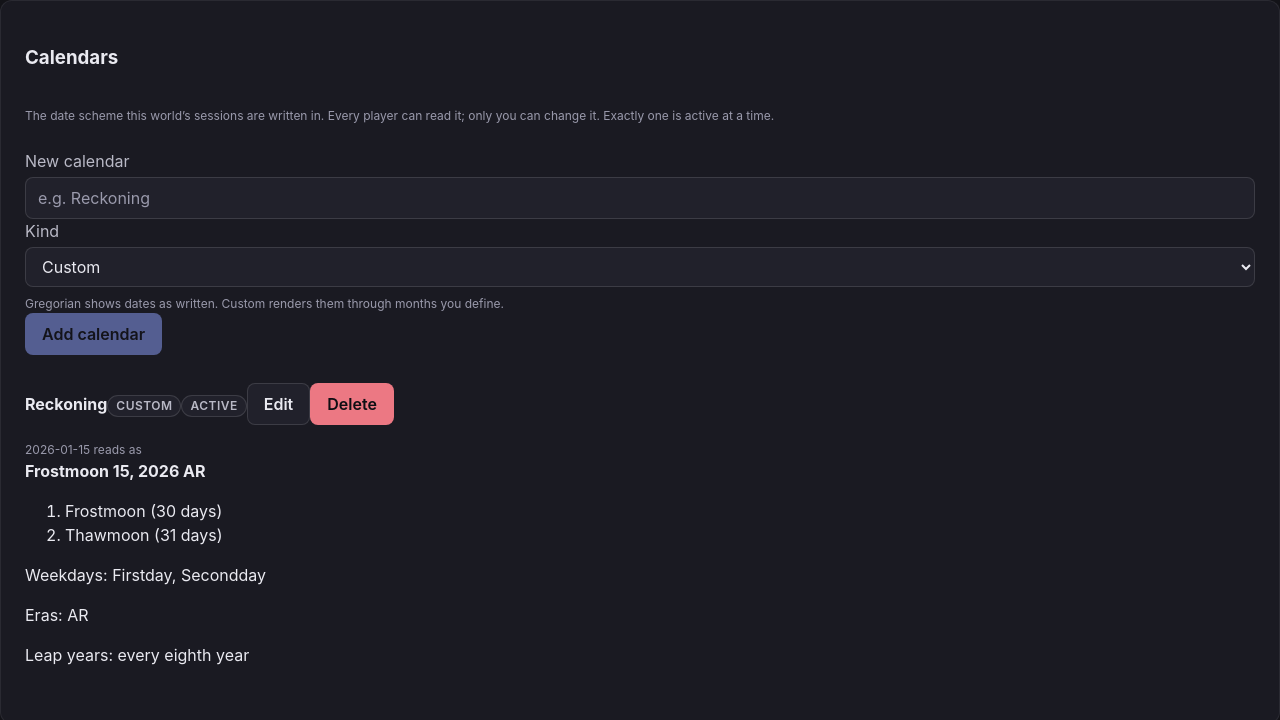
Scenario: CalendarsPanel › surfaces a refusal instead of failing silently
Click the button with aria-label "Delete Reckoning".
click(352, 404)  # box [310, 382, 394, 424]
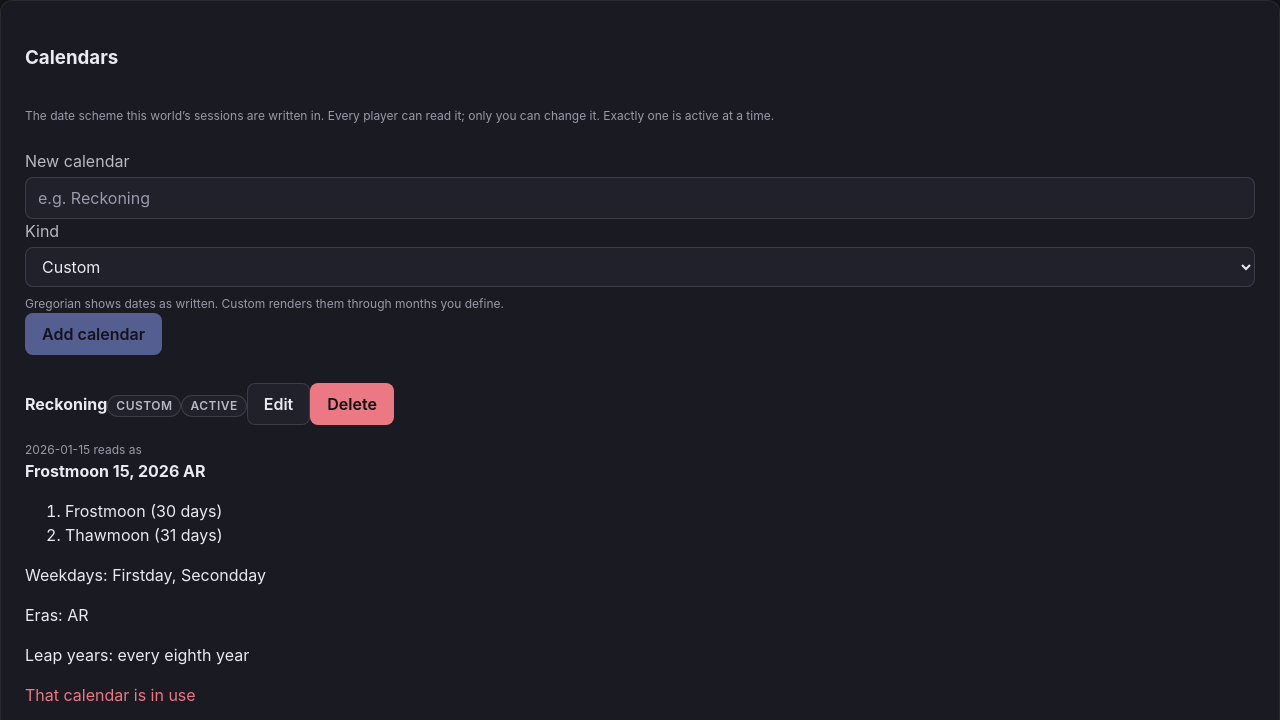
Expected: the message reads "That calendar is in use", [25, 684, 196, 704]
